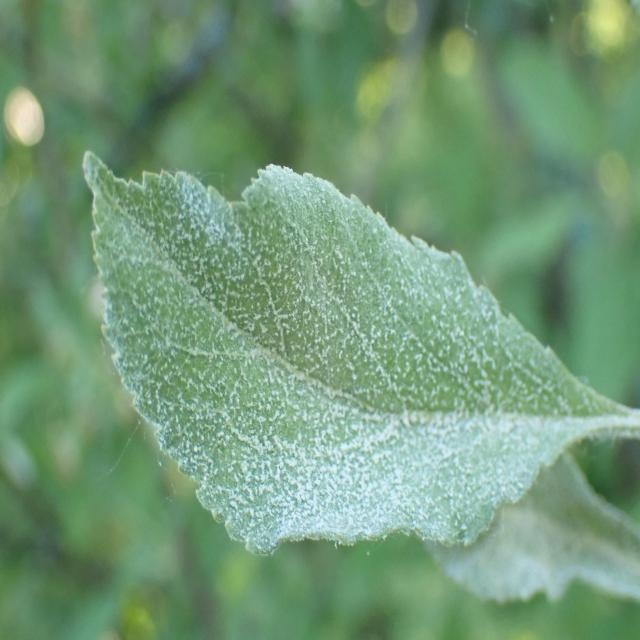Powdery_mildew: (68, 160, 640, 546), (403, 433, 635, 605)
